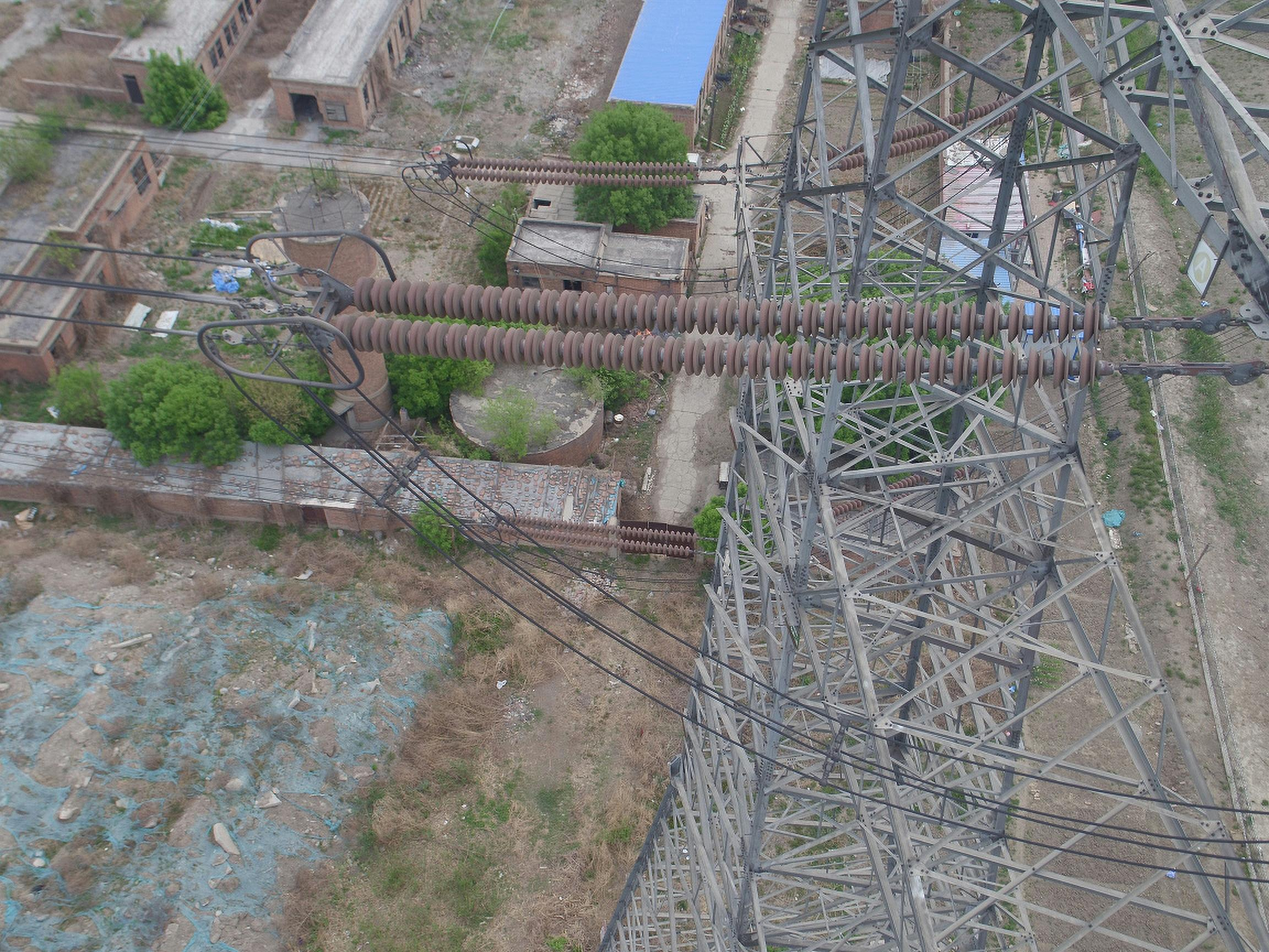insulator: (330, 273, 1110, 395), (825, 95, 1021, 174), (496, 512, 699, 558), (448, 155, 698, 190), (831, 470, 926, 518)
